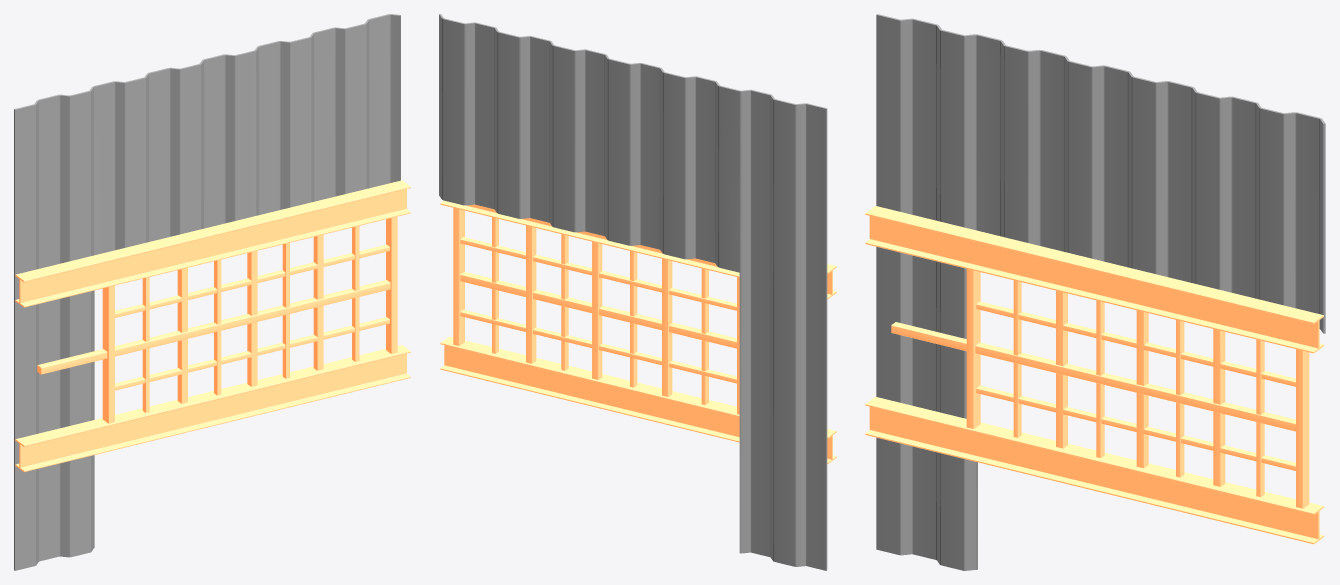
The model's file is SM_MetalPlate3.fbx.
3 views of the same model, side by side, from view 1: azimuth 30°, elevation 25°; view 2: azimuth 150°, elevation 25°; view 3: azimuth 330°, elevation 25° (orthographic). The views are drawn at different scales.
Visible parts, largest first — view 1: SM_MetalPlate3_LOD0; view 2: SM_MetalPlate3_LOD0; view 3: SM_MetalPlate3_LOD0.
Part boxes in pixels (left/top/right/bottom): SM_MetalPlate3_LOD0: left=14, top=14, right=410, bottom=570; SM_MetalPlate3_LOD0: left=439, top=14, right=836, bottom=570; SM_MetalPlate3_LOD0: left=865, top=14, right=1325, bottom=570.
Size of the model in its own units: 351 by 21.99 by 400.
